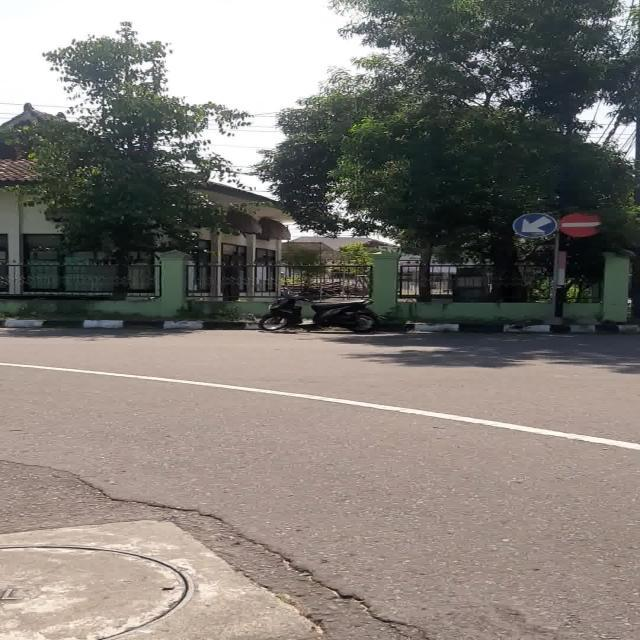Lajur Kiri: (512, 212, 556, 238)
